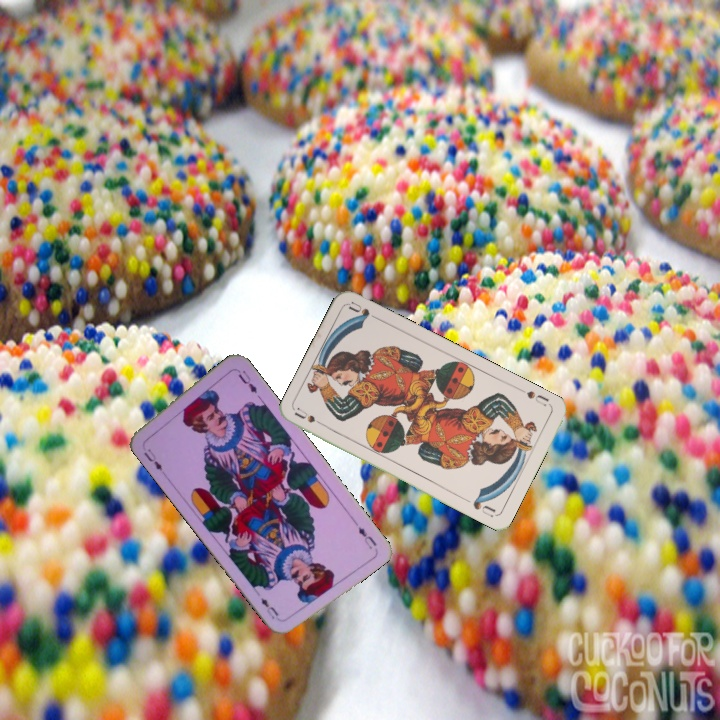EU: (354, 522, 379, 552), (140, 445, 165, 473)
SU: (291, 404, 330, 430), (522, 387, 551, 409)
